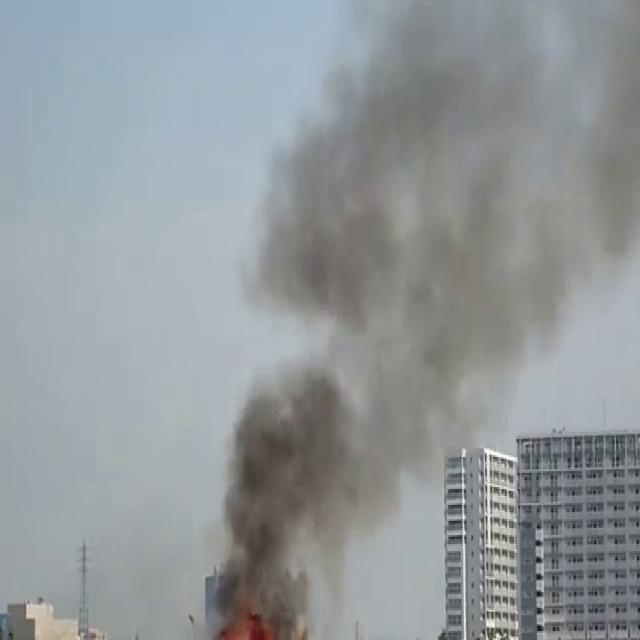Smoke: (197, 1, 553, 636)
